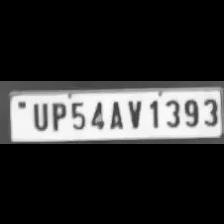1: (144, 96, 162, 128)
3: (200, 96, 220, 127), (162, 95, 180, 127)
4: (88, 97, 106, 129)
5: (66, 97, 86, 129)
9: (180, 96, 200, 127)
A: (105, 97, 124, 129)
P: (48, 99, 66, 130)
U: (28, 99, 50, 130)
V: (124, 96, 144, 128)
